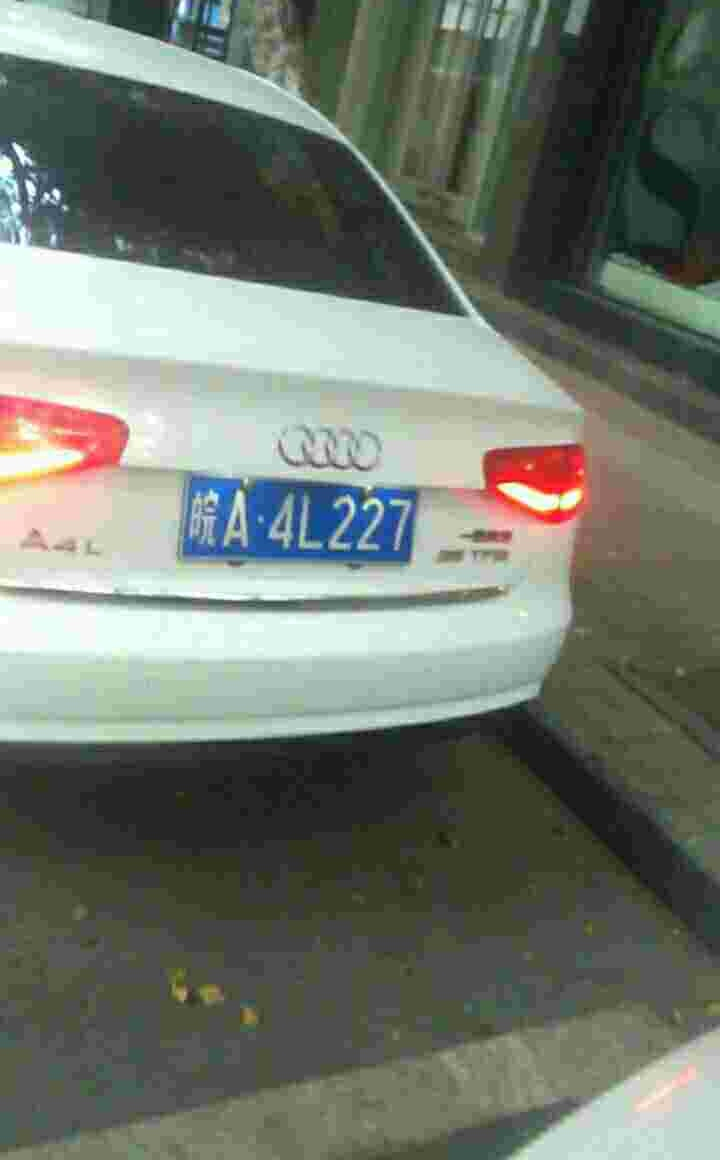license_plate: (182, 476, 429, 564)
